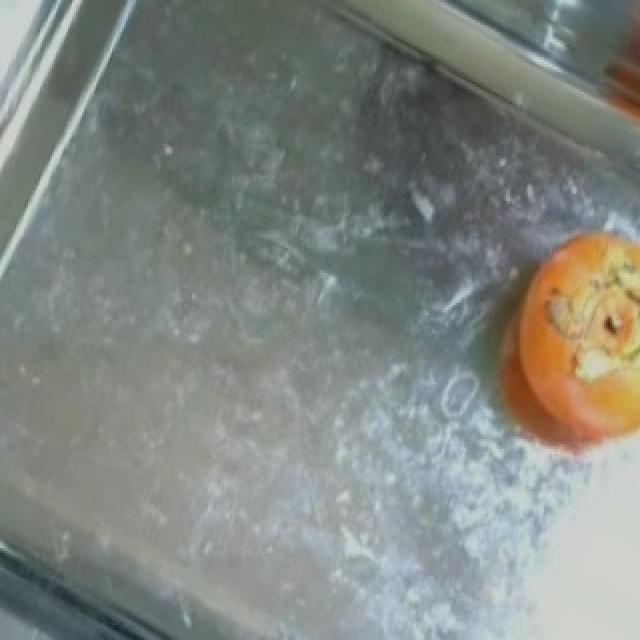Fruit: (468, 213, 640, 479), (588, 0, 640, 181)
